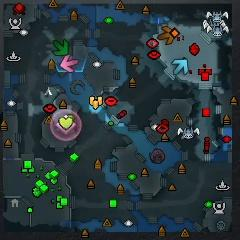Other: (51, 110, 82, 141)
x1: (61, 55, 79, 72)
x3: (172, 59, 188, 75)
x4: (53, 39, 69, 56)
x5: (158, 26, 174, 45)
